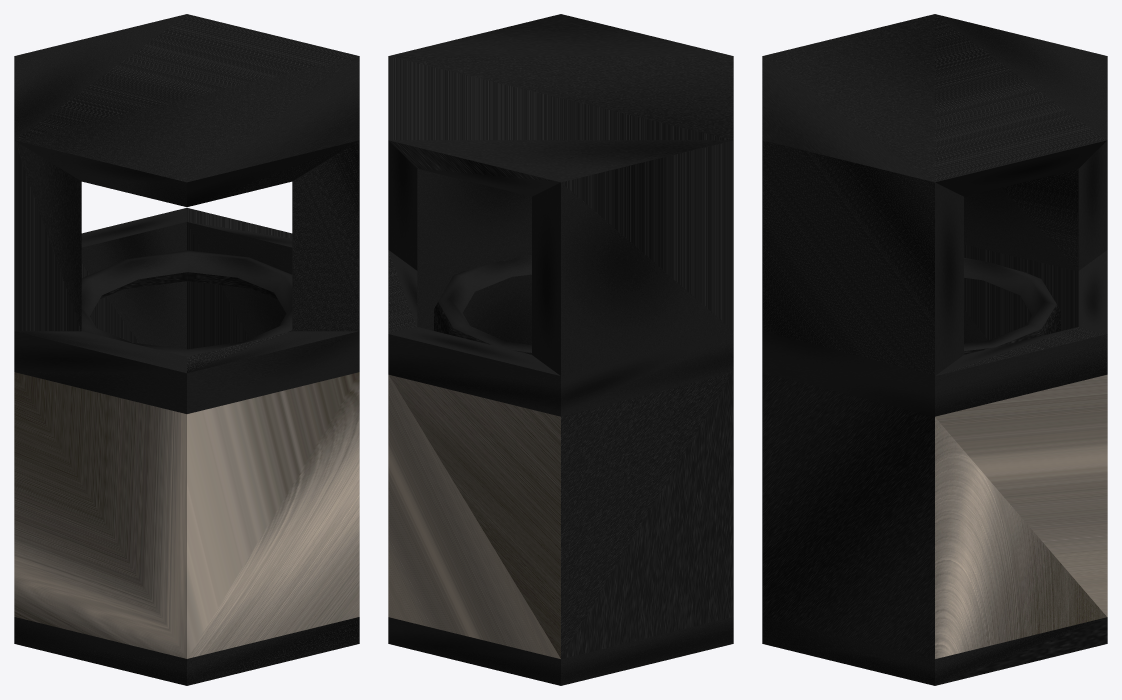
The model's file is Trashcan.fbx.
3 views of the same model, side by side, from view 1: azimuth 30°, elevation 25°; view 2: azimuth 150°, elevation 25°; view 3: azimuth 270°, elevation 25° (orthographic).
Visible parts, largest first — view 1: trashcontainer, trashcontainer1; view 2: trashcontainer, trashcontainer1; view 3: trashcontainer, trashcontainer1.
Boxes of the visible parts, x1,y1,x2,y2 form: trashcontainer: [14, 14, 359, 685]; trashcontainer1: [81, 250, 292, 356]; trashcontainer: [388, 14, 733, 685]; trashcontainer1: [434, 255, 531, 354]; trashcontainer: [762, 14, 1107, 685]; trashcontainer1: [964, 257, 1060, 354].
Size of the model in its own units: 21.56 by 30.07 by 18.67.
